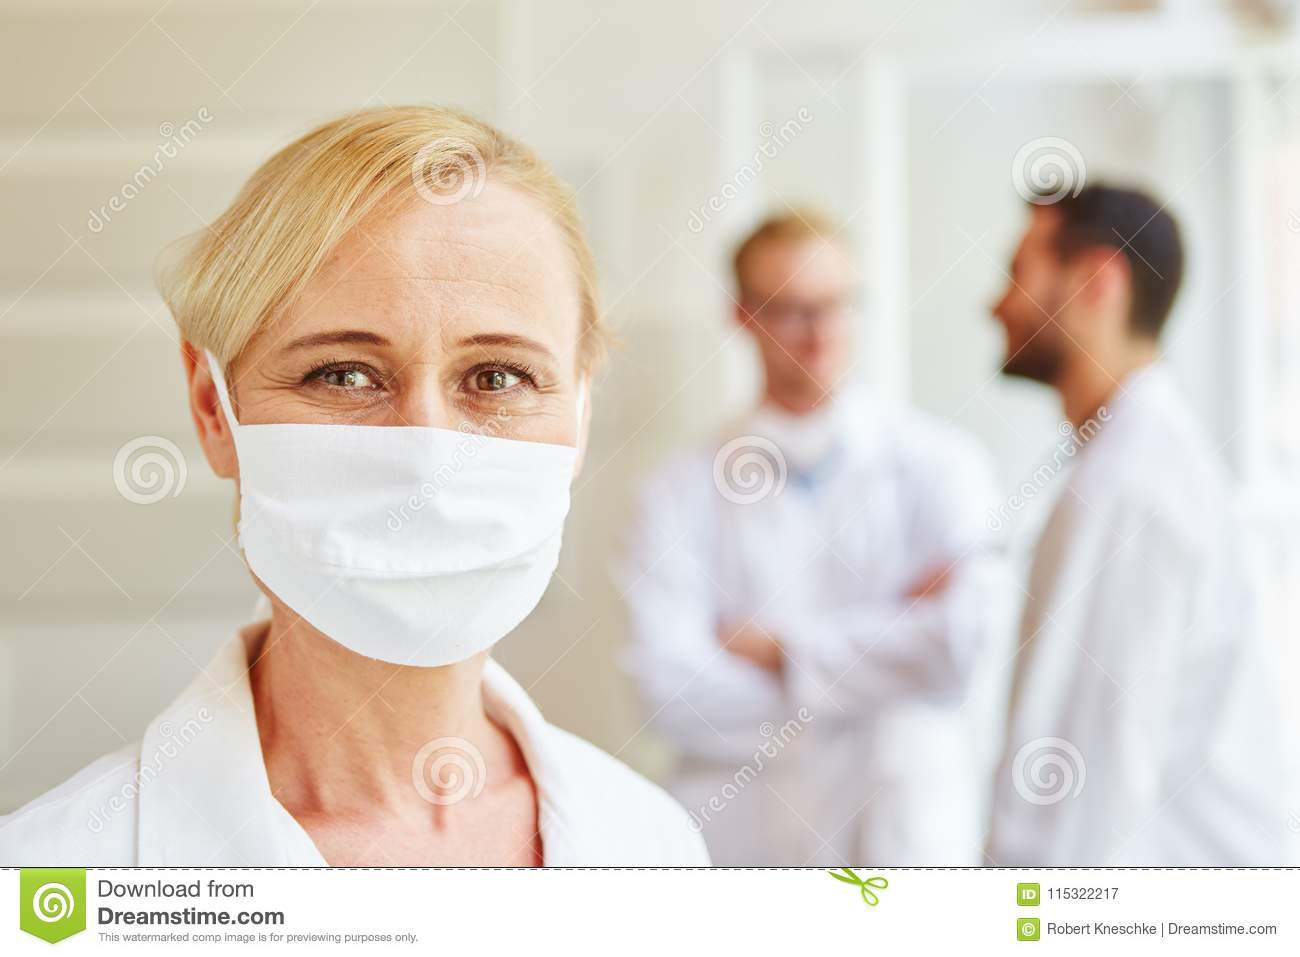mask: (220, 421, 582, 667)
